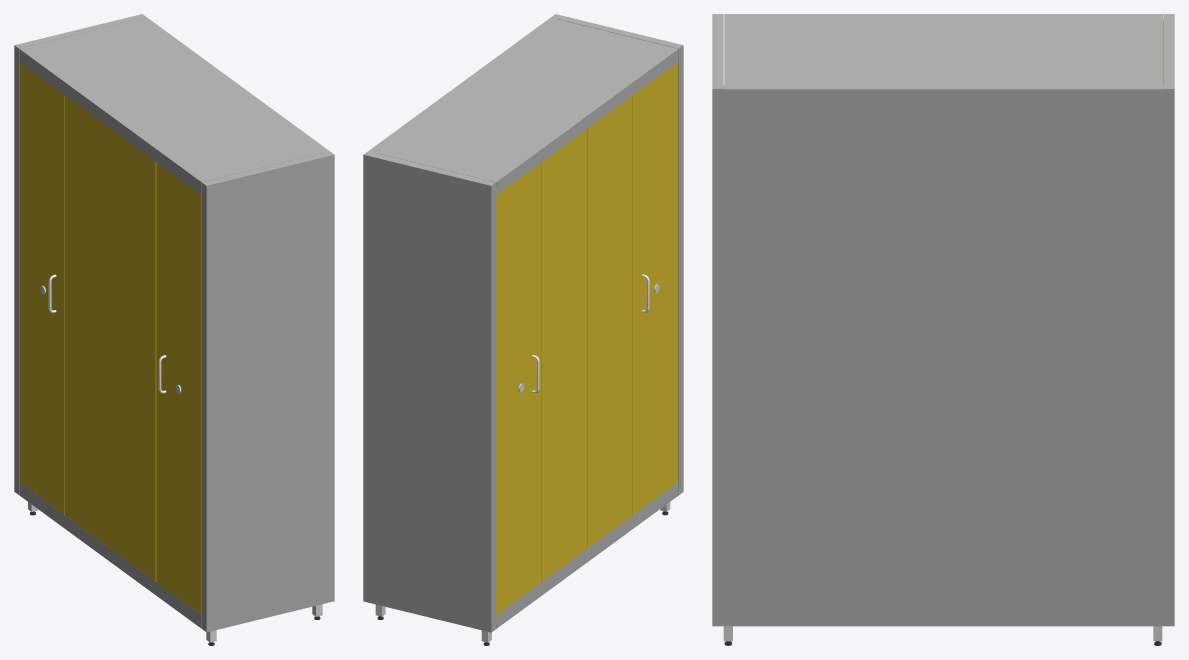
The model's file is Yellow_Cabinet.fbx.
3 views of the same model, side by side, from view 1: azimuth 30°, elevation 25°; view 2: azimuth 150°, elevation 25°; view 3: azimuth 270°, elevation 25° (orthographic). The views are drawn at different scales.
Parts seen in each view (by area): view 1: doors, cabinet.001, cabinet; view 2: doors, cabinet.001, cabinet; view 3: cabinet.001, cabinet.
Part boxes in pixels (bbox=[...]): doors: bbox=[19, 62, 201, 615]; cabinet.001: bbox=[14, 14, 334, 642]; cabinet: bbox=[19, 18, 327, 628]; doors: bbox=[496, 63, 678, 624]; cabinet.001: bbox=[363, 14, 683, 642]; cabinet: bbox=[370, 18, 678, 628]; cabinet.001: bbox=[712, 14, 1174, 641]; cabinet: bbox=[724, 14, 1162, 626].
Bounding box in the file's own units: 71.33 × 236 × 176.
